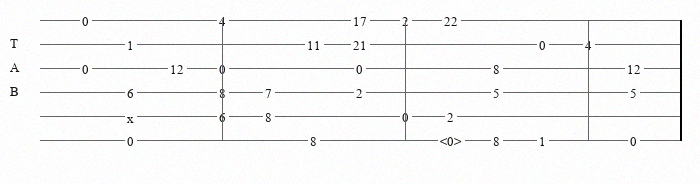0: (82, 14, 93, 27), (82, 62, 93, 75), (127, 134, 138, 147), (219, 62, 230, 75), (356, 62, 367, 75), (402, 110, 413, 123), (539, 38, 550, 51), (630, 134, 641, 147)
1: (127, 38, 138, 51), (539, 134, 550, 147)
11: (307, 38, 325, 51)
12: (170, 62, 188, 75), (627, 62, 645, 75)
17: (353, 14, 371, 27)
2: (356, 86, 367, 99), (402, 14, 413, 27), (447, 110, 458, 123)
21: (353, 38, 371, 51)
22: (444, 14, 462, 27)
4: (219, 14, 230, 27), (585, 38, 596, 51)
5: (493, 86, 504, 99), (630, 86, 641, 99)
6: (127, 86, 138, 99), (219, 110, 230, 123)
7: (265, 86, 276, 99)
8: (219, 86, 230, 99), (265, 110, 276, 123), (310, 134, 321, 147), (493, 134, 504, 147), (493, 62, 504, 75)
harmonic: (440, 134, 466, 147)
x: (127, 111, 138, 121)
